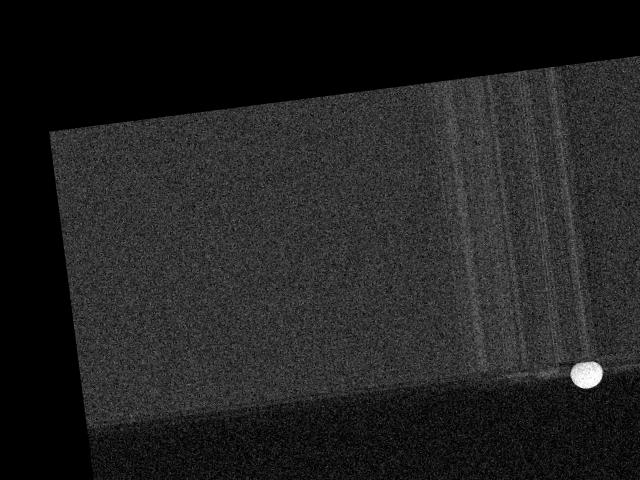egg: (568, 360, 604, 390)
